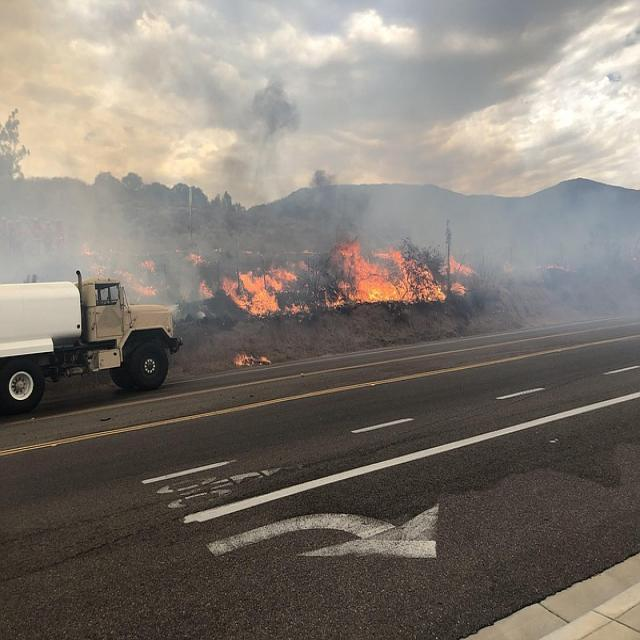Fire: (202, 224, 472, 328)
